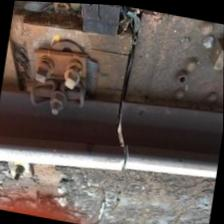person: (72, 82, 165, 183)
